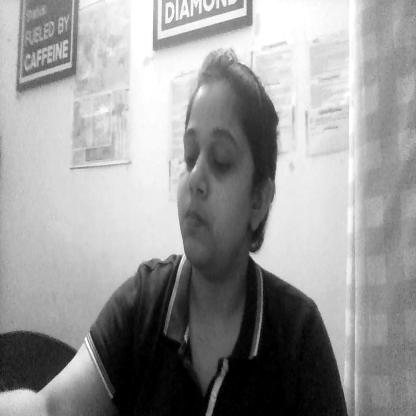Distracted: (172, 64, 275, 278)
